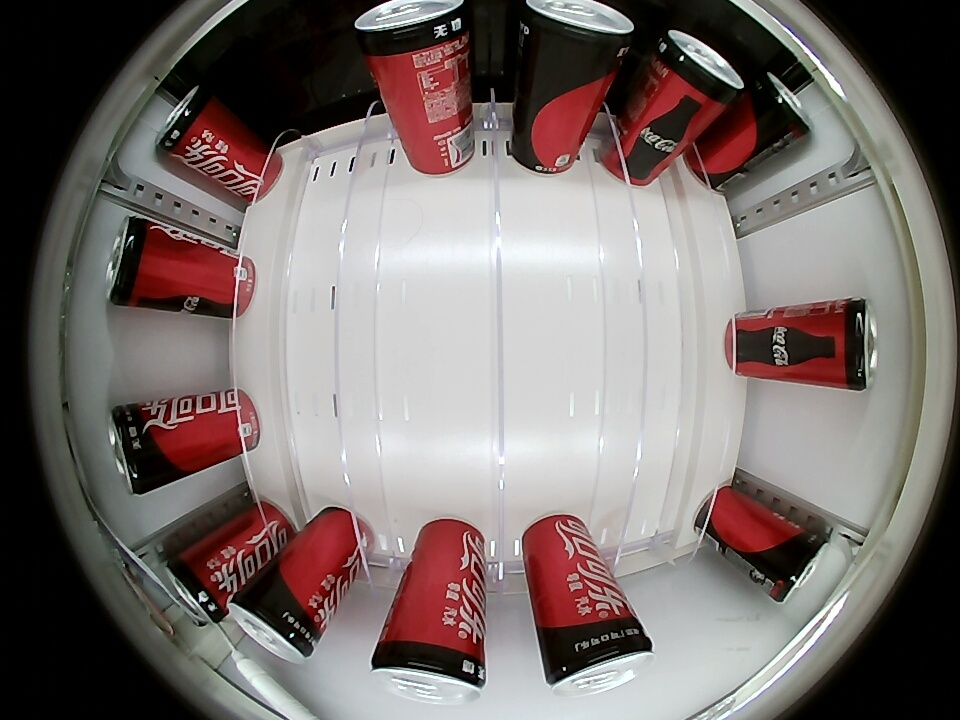lingdukele: (541, 620, 656, 697), (514, 0, 635, 73), (645, 29, 743, 115), (371, 633, 487, 704), (355, 0, 471, 67), (229, 586, 320, 663), (107, 214, 179, 309), (110, 401, 174, 495), (156, 85, 225, 170), (818, 296, 876, 390), (166, 543, 231, 626), (761, 527, 831, 604), (747, 69, 811, 150)
